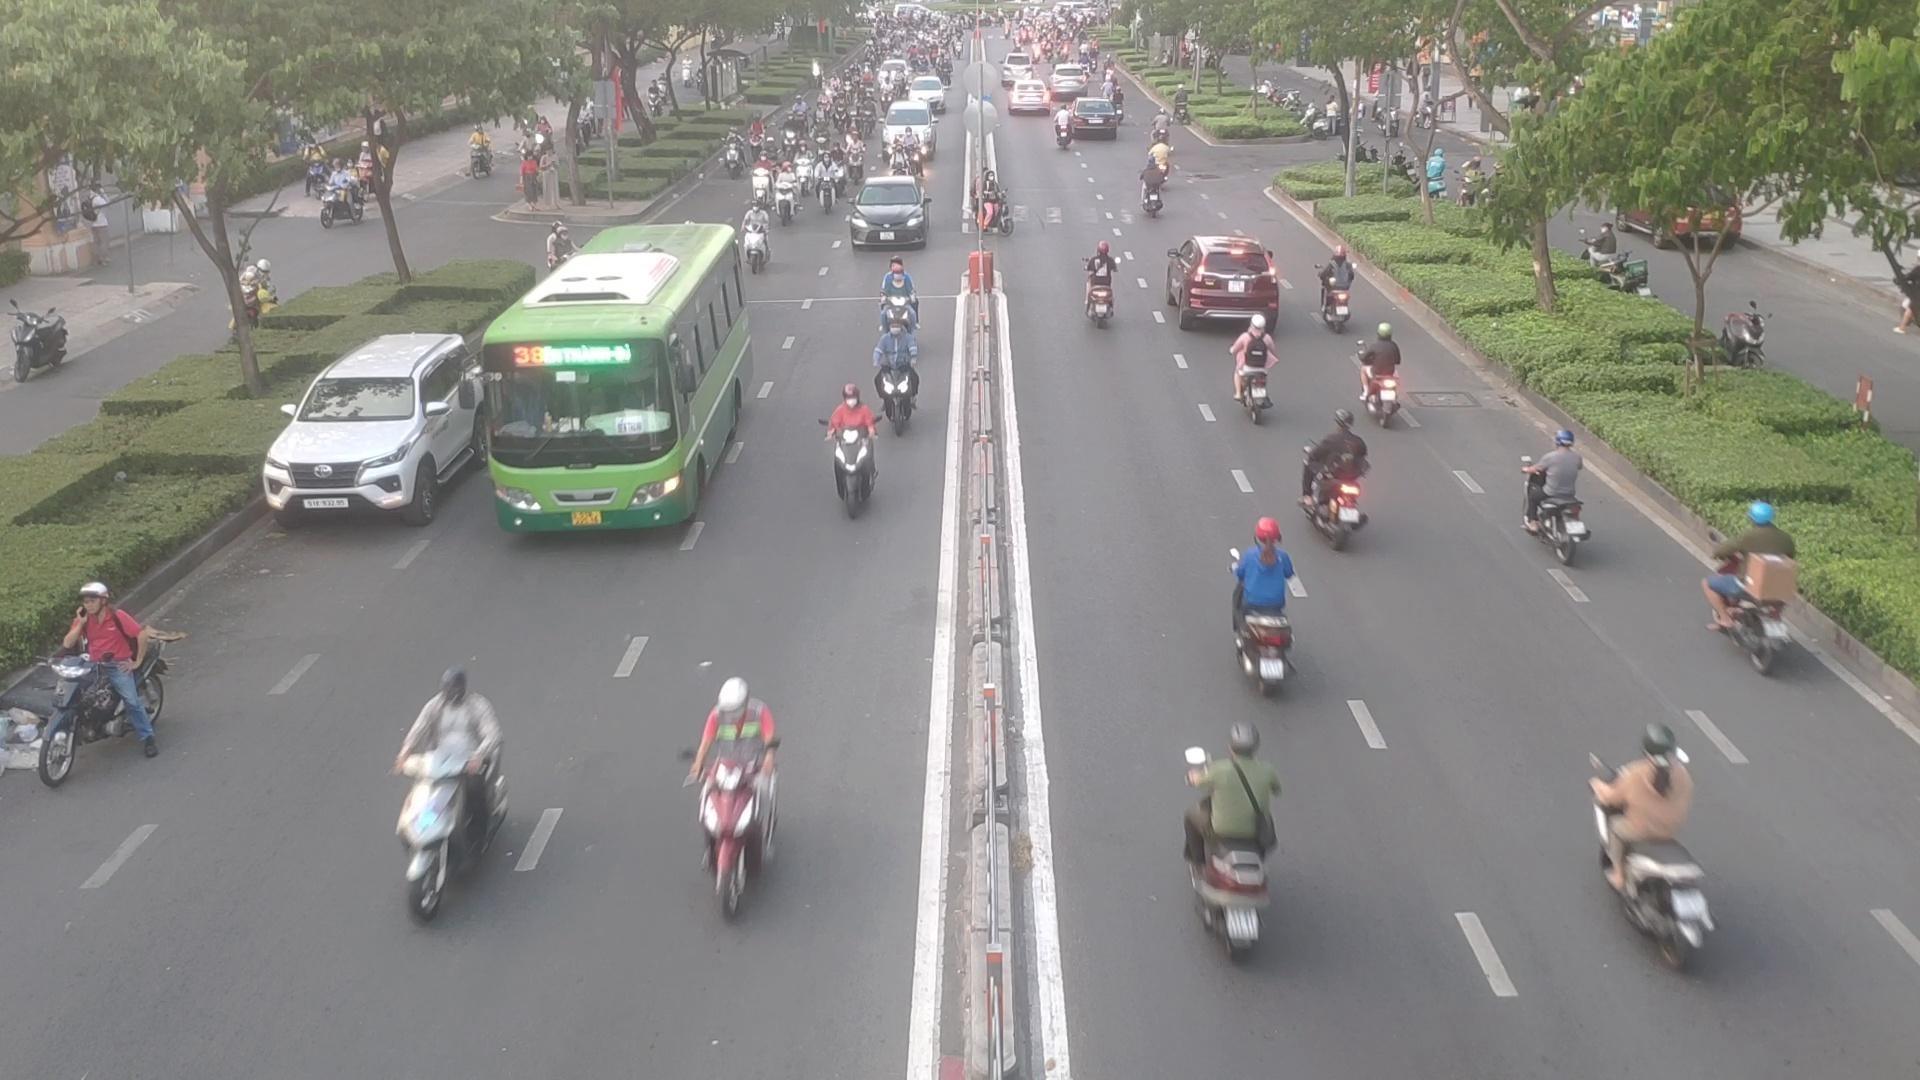bus: (477, 222, 758, 545)
car: (265, 332, 510, 527), (844, 175, 931, 252)
motorbike: (382, 673, 516, 913), (673, 680, 793, 916), (1593, 709, 1713, 934), (24, 588, 171, 769), (1183, 737, 1288, 951), (1604, 816, 1726, 971), (1709, 493, 1797, 683), (1225, 531, 1315, 675), (1522, 434, 1605, 558), (1303, 419, 1375, 543), (822, 396, 887, 512), (870, 311, 924, 426), (1226, 316, 1282, 421), (1357, 330, 1415, 425), (1317, 255, 1370, 335), (1077, 249, 1124, 328), (1139, 160, 1168, 220), (769, 175, 799, 223), (1051, 115, 1077, 150)
